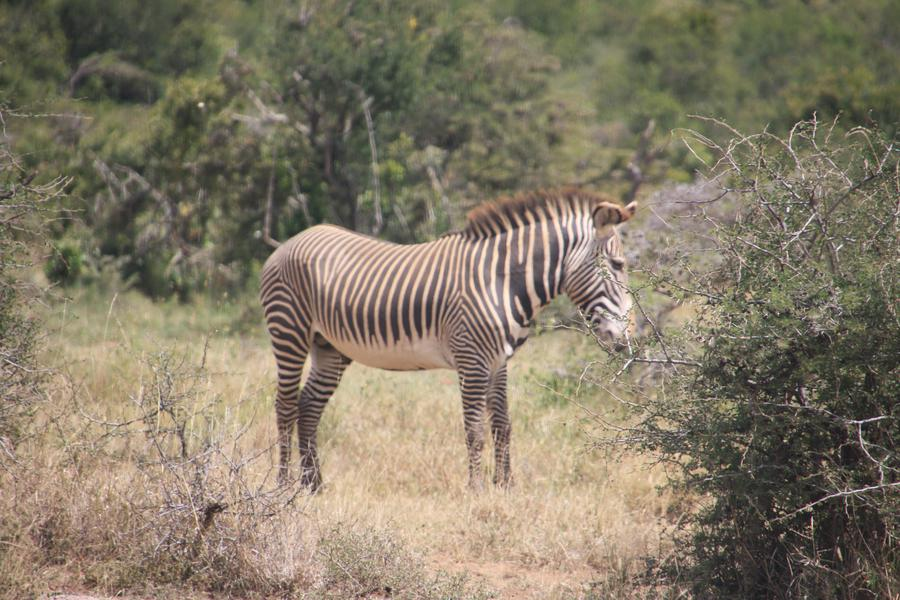zebra_grevys: (268, 219, 500, 371)
